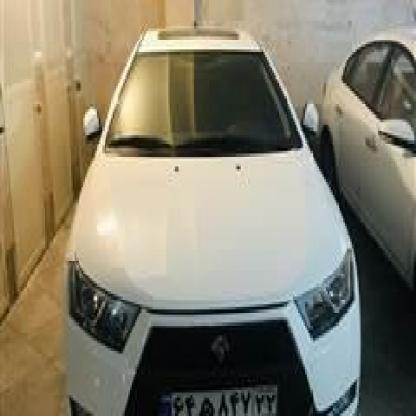Car: (50, 5, 364, 416), (317, 0, 416, 291)
